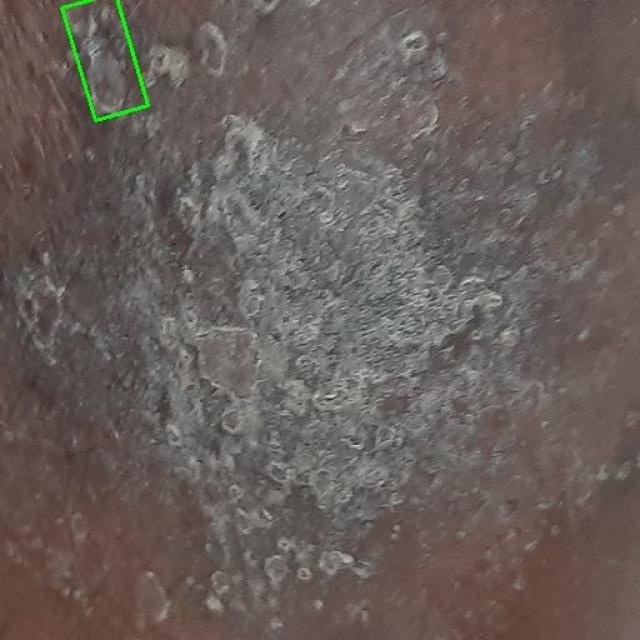Tinea Corporis: (62, 0, 149, 121)
